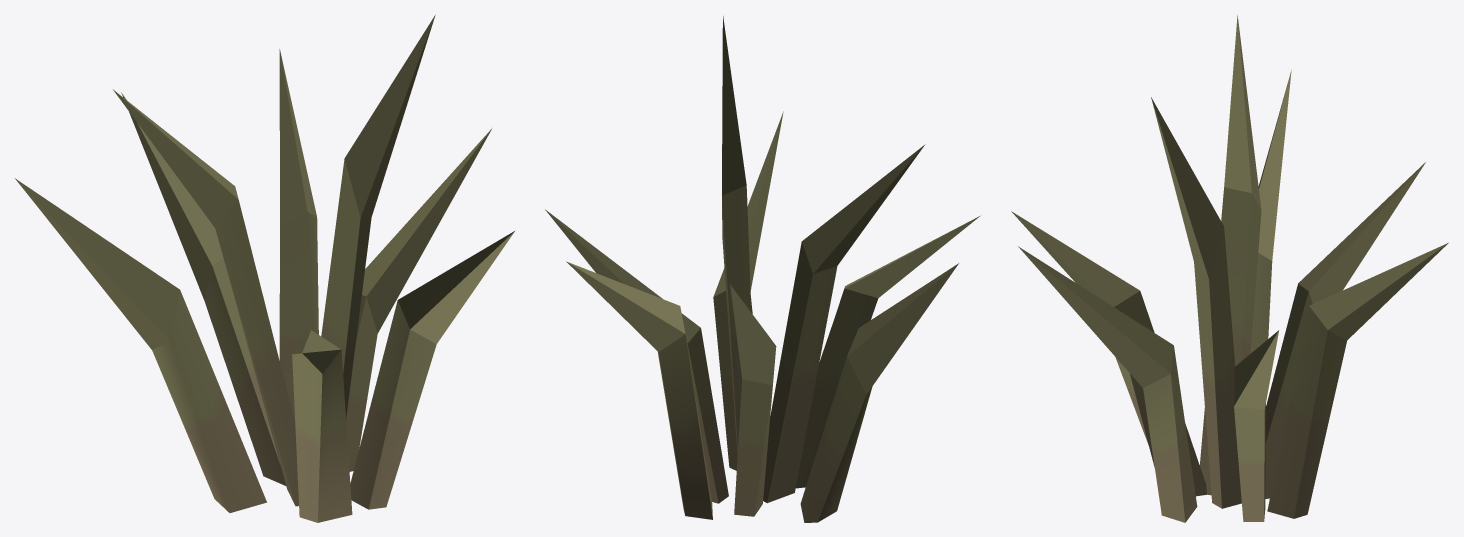
File: SM_Env_Grass_02.glb
3 renders of one model, left to right at view 1: azimuth 30°, elevation 25°; view 2: azimuth 150°, elevation 25°; view 3: azimuth 270°, elevation 25°, orthographic. The views are drawn at different scales.
Visible parts, largest first — view 1: SM_Env_Grass_02; view 2: SM_Env_Grass_02; view 3: SM_Env_Grass_02.
Part boxes in pixels (x1,y1,x2,y2): SM_Env_Grass_02: (15, 15, 514, 522); SM_Env_Grass_02: (545, 16, 979, 522); SM_Env_Grass_02: (1011, 15, 1448, 522).
Bounding box in the file's own units: 1.12 × 1.11 × 1.
1 material, 1 textured.
